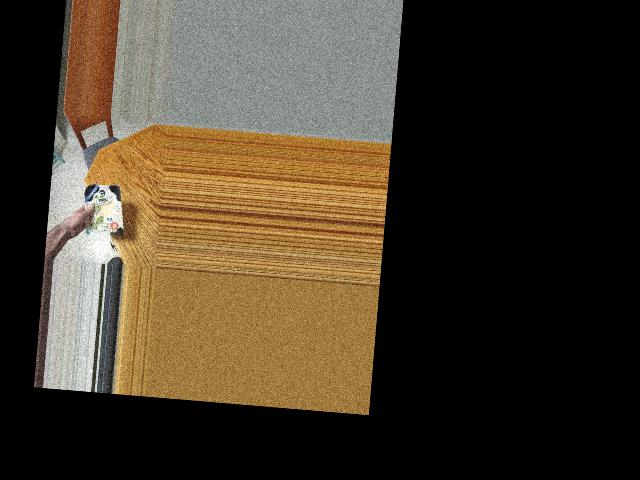cheese: (78, 175, 127, 242)
